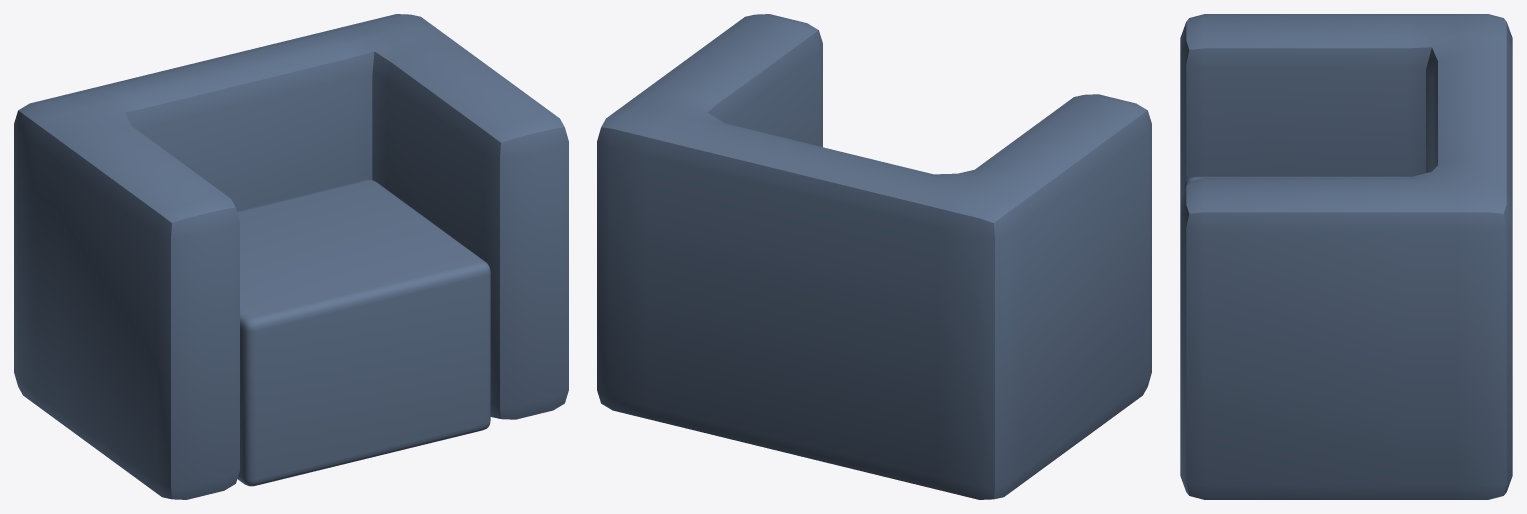
Rendered from LC_3011_ChairF_LOD2.FBX.
3 renders of one model, left to right at view 1: azimuth 30°, elevation 25°; view 2: azimuth 150°, elevation 25°; view 3: azimuth 270°, elevation 25°, orthographic. The views are drawn at different scales.
Visible parts, largest first — view 1: LC_3011_ChairF_LOD2; view 2: LC_3011_ChairF_LOD2; view 3: LC_3011_ChairF_LOD2.
Part boxes in pixels (x1,y1,x2,y2): LC_3011_ChairF_LOD2: (14,14,568,499); LC_3011_ChairF_LOD2: (597,14,1151,499); LC_3011_ChairF_LOD2: (1180,14,1512,499).
Bounding box in the file's own units: 96.64 × 66.15 × 66.77.
Materials: 1 (1 with a texture image).
